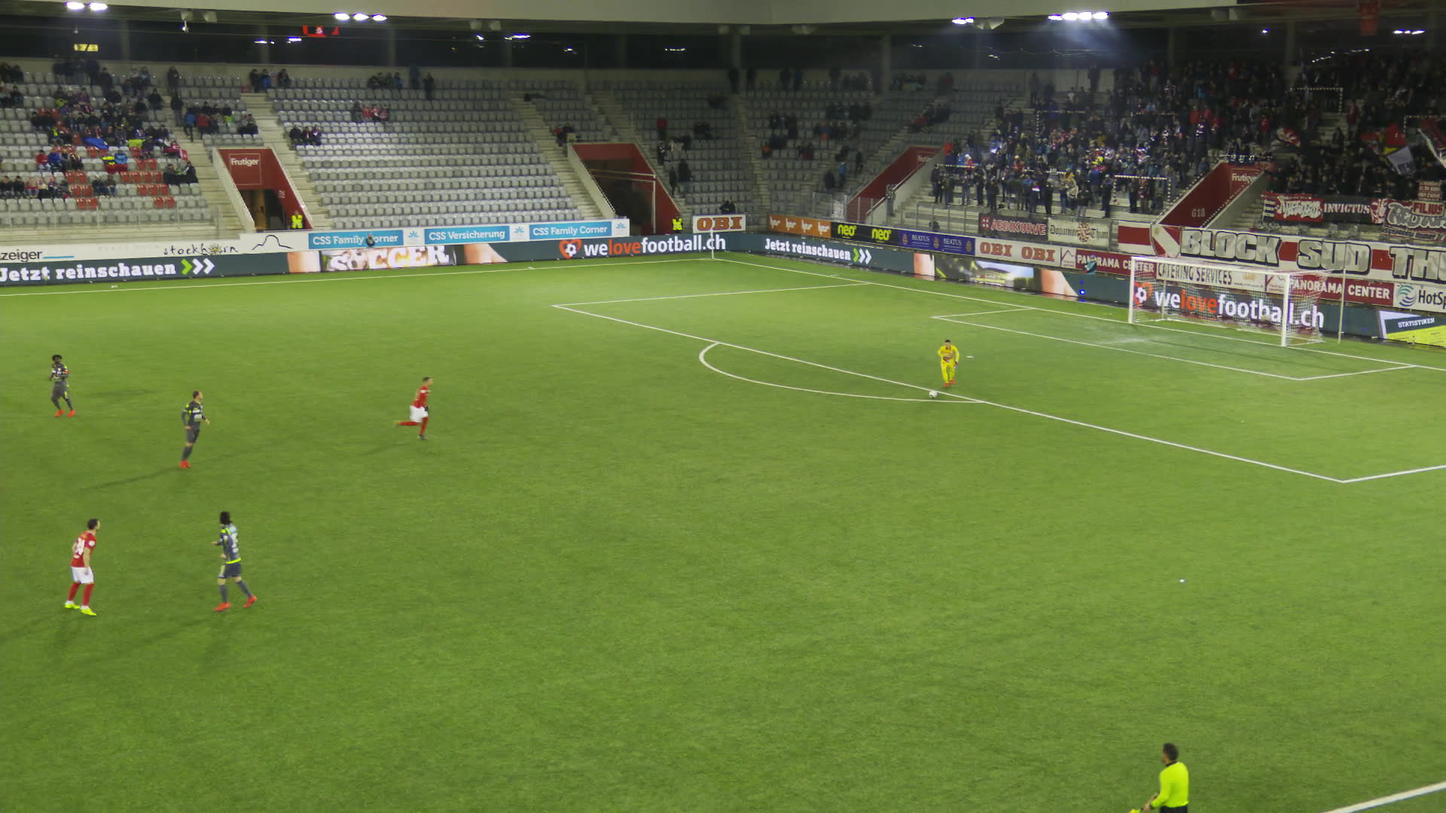ball: (927, 388, 935, 397)
player: (209, 513, 255, 610), (63, 518, 101, 614), (393, 376, 435, 439), (179, 388, 209, 467), (48, 352, 74, 416), (938, 336, 959, 383)
referee: (1125, 738, 1207, 812)
